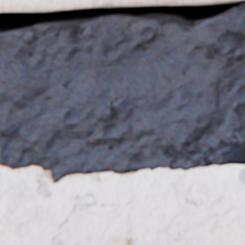brick: (0, 163, 244, 244), (0, 0, 240, 11)
crack: (0, 0, 244, 32)
